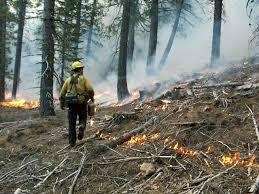fire: (217, 147, 259, 171), (0, 91, 39, 109), (124, 130, 160, 145), (171, 139, 199, 154)
